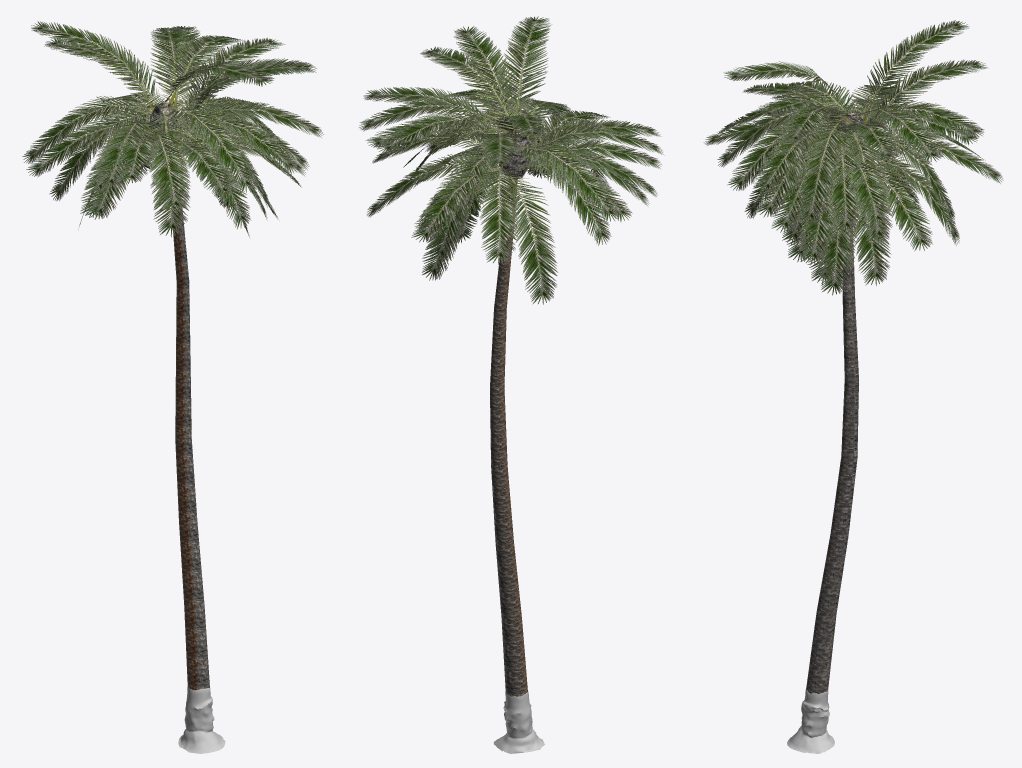
File: Palmlow.obj
3 views of the same model, side by side, from view 1: azimuth 30°, elevation 25°; view 2: azimuth 150°, elevation 25°; view 3: azimuth 270°, elevation 25° (orthographic).
Visible parts, largest first — view 1: PALMLOW_Icosphere.001; view 2: PALMLOW_Icosphere.001; view 3: PALMLOW_Icosphere.001.
Part boxes in pixels (x1=…): PALMLOW_Icosphere.001: x1=22, y1=21, x2=323, y2=753; PALMLOW_Icosphere.001: x1=359, y1=16, x2=664, y2=753; PALMLOW_Icosphere.001: x1=703, y1=20, x2=1003, y2=753.
Size of the model in its own units: 1.98 by 4.84 by 1.98.
